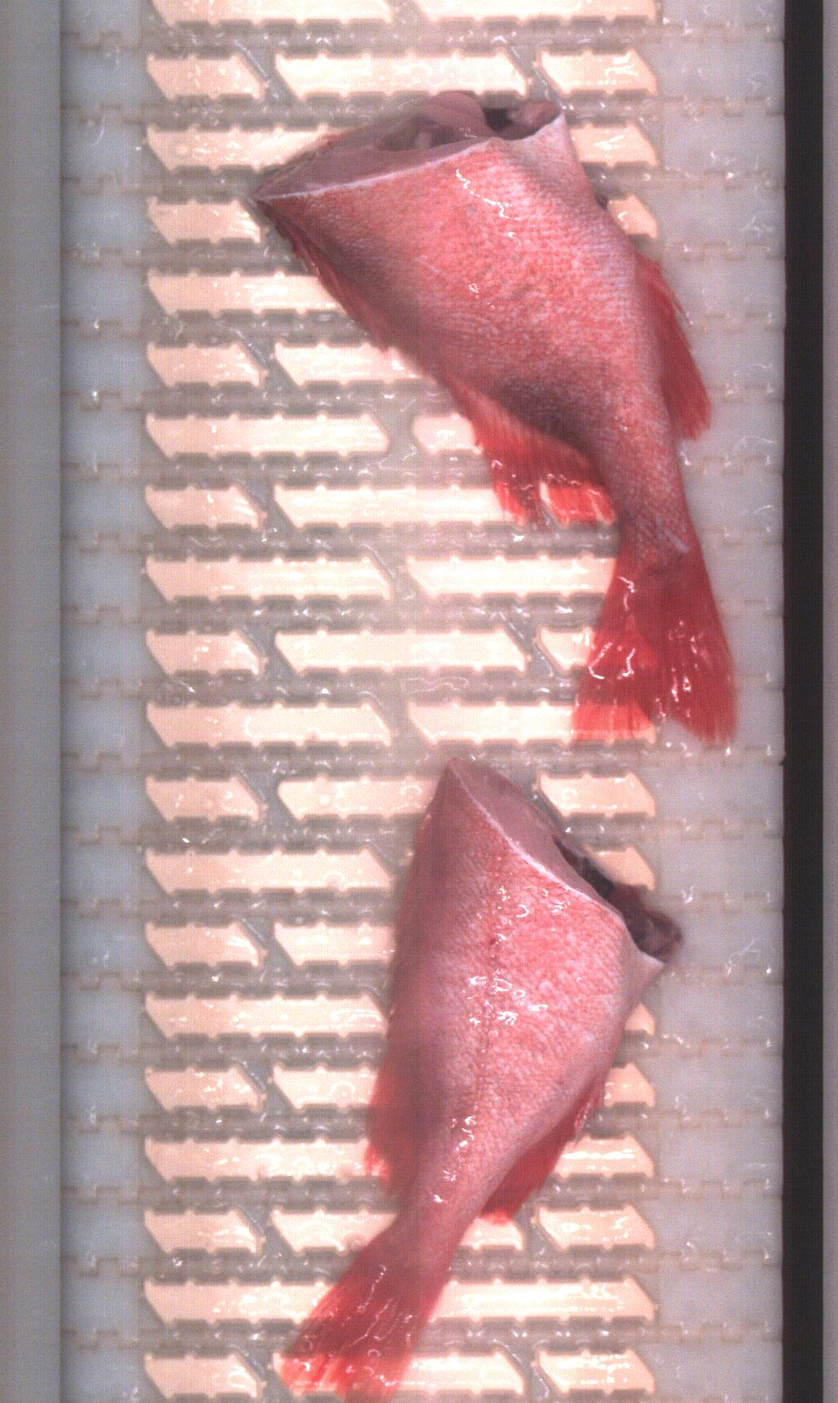Fish: (252, 91, 734, 742), (282, 761, 662, 1403)
